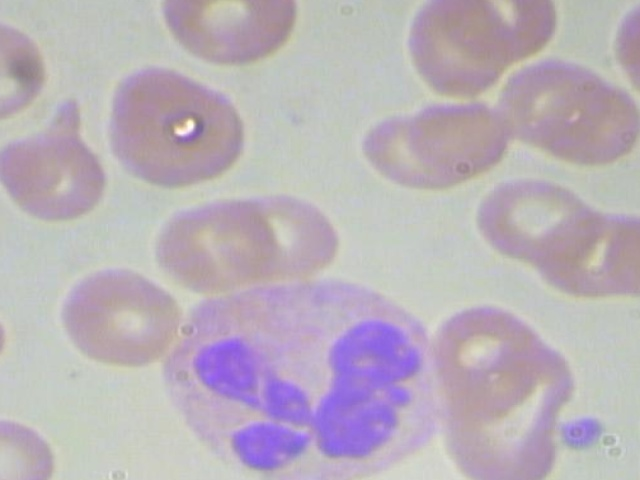Platelets: (552, 410, 618, 456)
RBC: (92, 58, 256, 195), (34, 267, 194, 372), (458, 171, 607, 272), (0, 95, 115, 223), (485, 51, 616, 157), (219, 192, 356, 286), (393, 0, 508, 100), (147, 0, 312, 67), (0, 15, 50, 125), (0, 415, 56, 480)
WBC: (142, 267, 463, 480)
